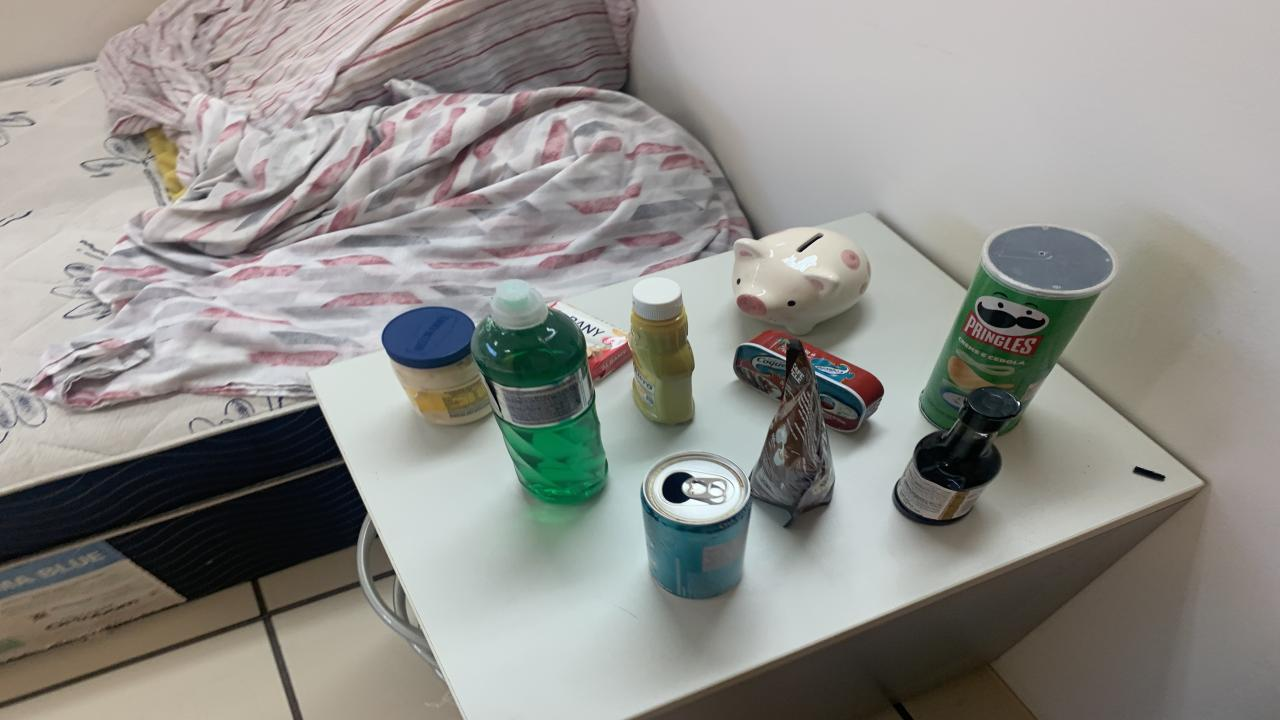Coffee-Pantry_Items: (750, 339, 835, 527)
Detergent-Cleanup_Items: (470, 279, 608, 504)
English_Sauce-Pantry_Items: (892, 388, 1020, 525)
Mayonnaise-Pantry_Items: (382, 308, 492, 426)
Mustard-Pantry_Items: (630, 278, 695, 426)
Pig_Safe-Miscellaneous: (730, 227, 870, 336)
Pringles-Snacks: (920, 225, 1118, 429)
Soap-Cleanup_Items: (548, 302, 632, 381)
Tea-Drinks: (642, 452, 750, 598)
Tuna_Can-Pantry_Items: (802, 343, 885, 433), (732, 330, 790, 399)
